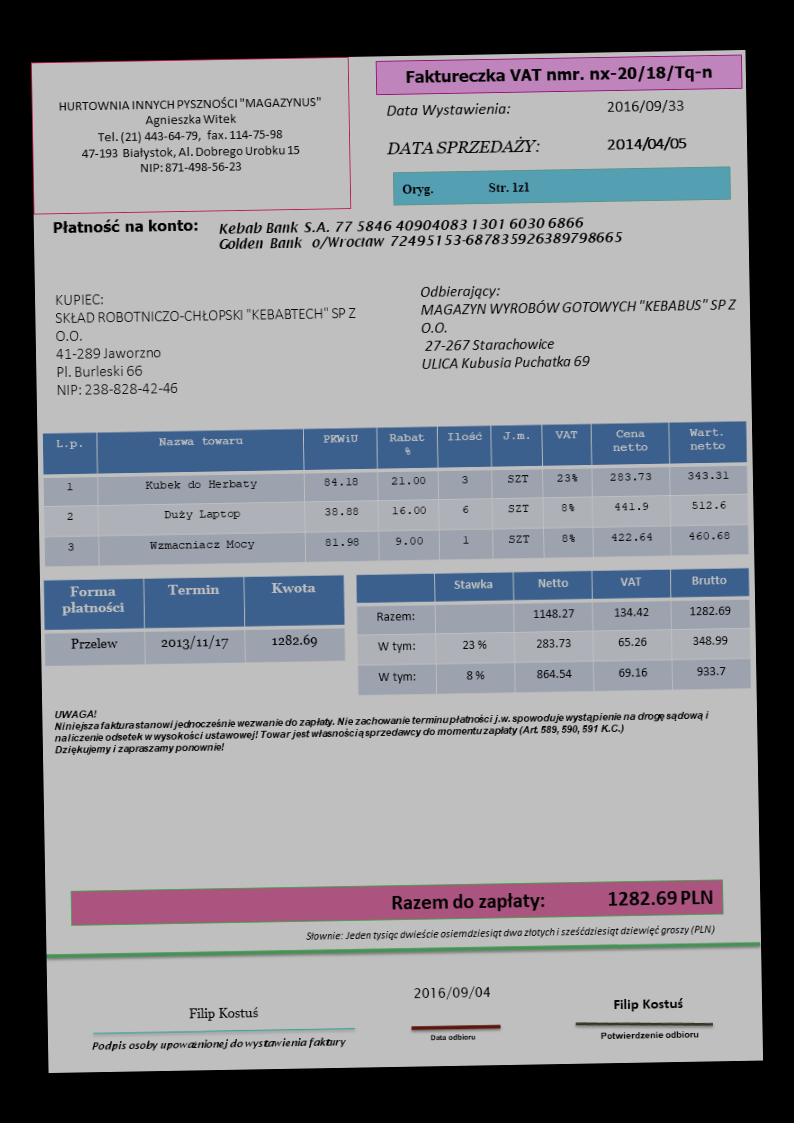Table: (41, 417, 751, 570), (354, 566, 753, 699), (42, 574, 346, 668)
TextBox: (50, 693, 713, 758), (51, 284, 360, 401), (417, 277, 742, 375), (53, 93, 325, 179), (215, 213, 626, 255), (388, 882, 716, 916), (301, 918, 716, 944), (400, 62, 714, 88), (88, 1034, 352, 1055), (383, 133, 541, 160), (46, 214, 200, 239), (397, 175, 532, 200), (381, 96, 512, 120), (603, 131, 690, 155), (411, 979, 495, 1003), (598, 1027, 701, 1043), (609, 993, 689, 1013), (184, 1002, 260, 1023), (603, 97, 686, 115), (424, 1029, 480, 1045)
